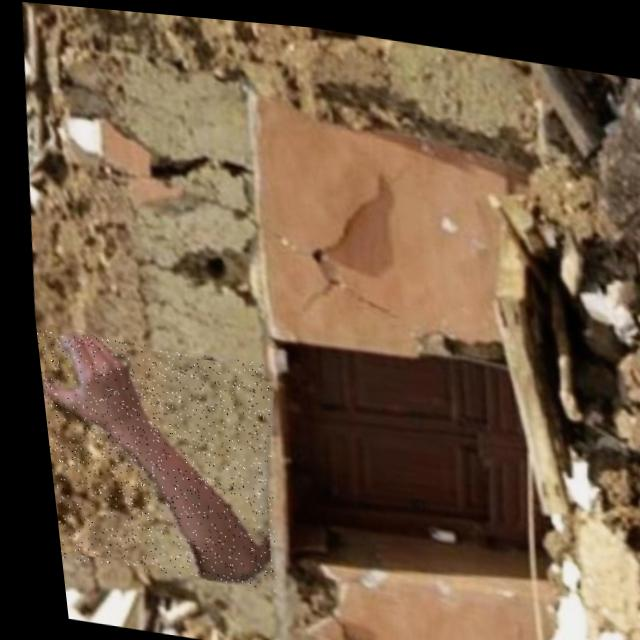Person in Rubble: (29, 326, 279, 587)
